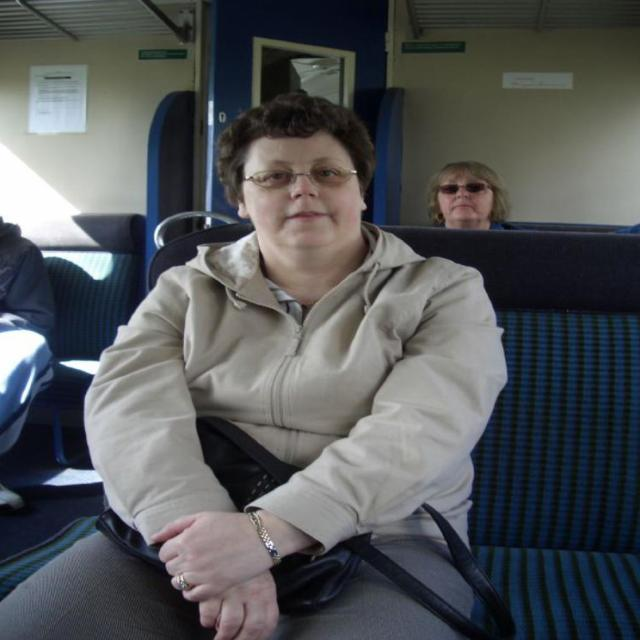Glasses: (225, 163, 368, 200), (433, 181, 498, 197)
